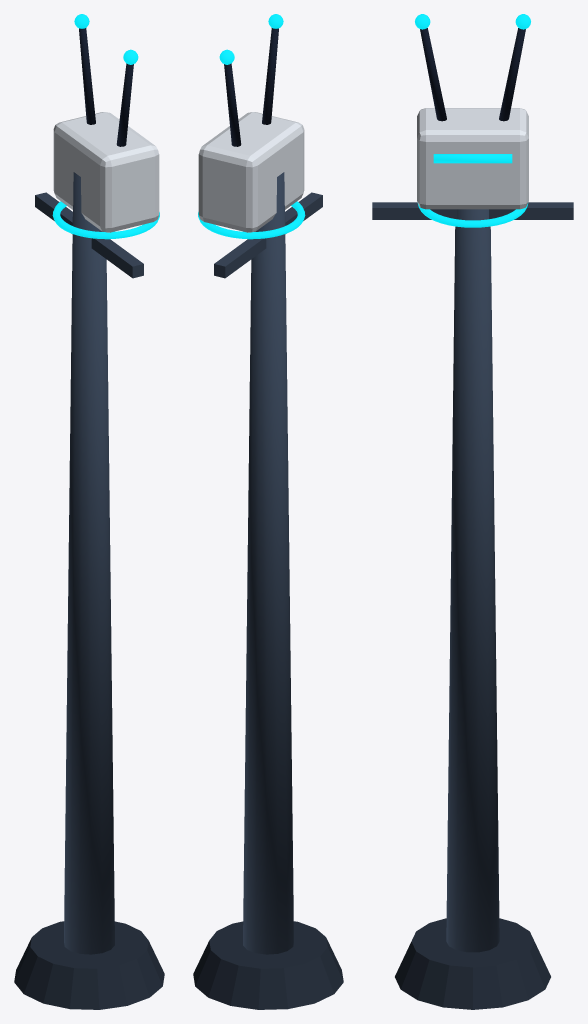
Rendered from wifi_node.glb.
3 renders of one model, left to right at view 1: azimuth 30°, elevation 25°; view 2: azimuth 150°, elevation 25°; view 3: azimuth 270°, elevation 25°, orthographic. The views are drawn at different scales.
Parts seen in each view (by area): view 1: Pole, AccessBox, Footing, DualAntennas, CrossArm, WifiLEDs; view 2: Pole, AccessBox, Footing, DualAntennas, CrossArm, WifiLEDs; view 3: Pole, AccessBox, Footing, CrossArm, WifiLEDs, DualAntennas.
Part boxes in pixels (x1,y1,x2,y2): Pole: (64, 172, 114, 954); AccessBox: (53, 112, 159, 232); Footing: (14, 921, 164, 1009); DualAntennas: (79, 28, 133, 146); CrossArm: (35, 192, 143, 278); WifiLEDs: (52, 14, 159, 239); Pole: (243, 172, 293, 954); AccessBox: (198, 112, 304, 232); Footing: (193, 921, 343, 1009); DualAntennas: (224, 28, 278, 146); CrossArm: (214, 192, 322, 278); WifiLEDs: (198, 14, 305, 239); Pole: (446, 209, 499, 952); AccessBox: (417, 108, 528, 209); Footing: (395, 918, 550, 1009); CrossArm: (372, 202, 573, 219); WifiLEDs: (415, 14, 530, 227); DualAntennas: (420, 28, 525, 121).
Size of the model in its own units: 1.4 by 9.57 by 1.8.
